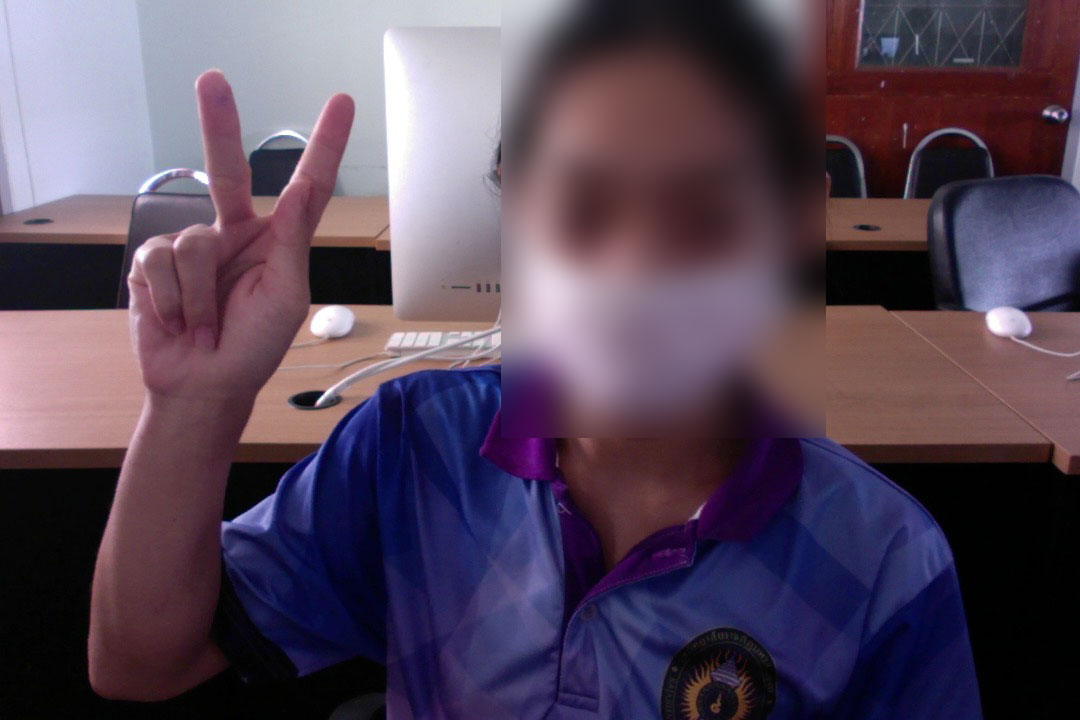ko: (103, 63, 360, 436)
